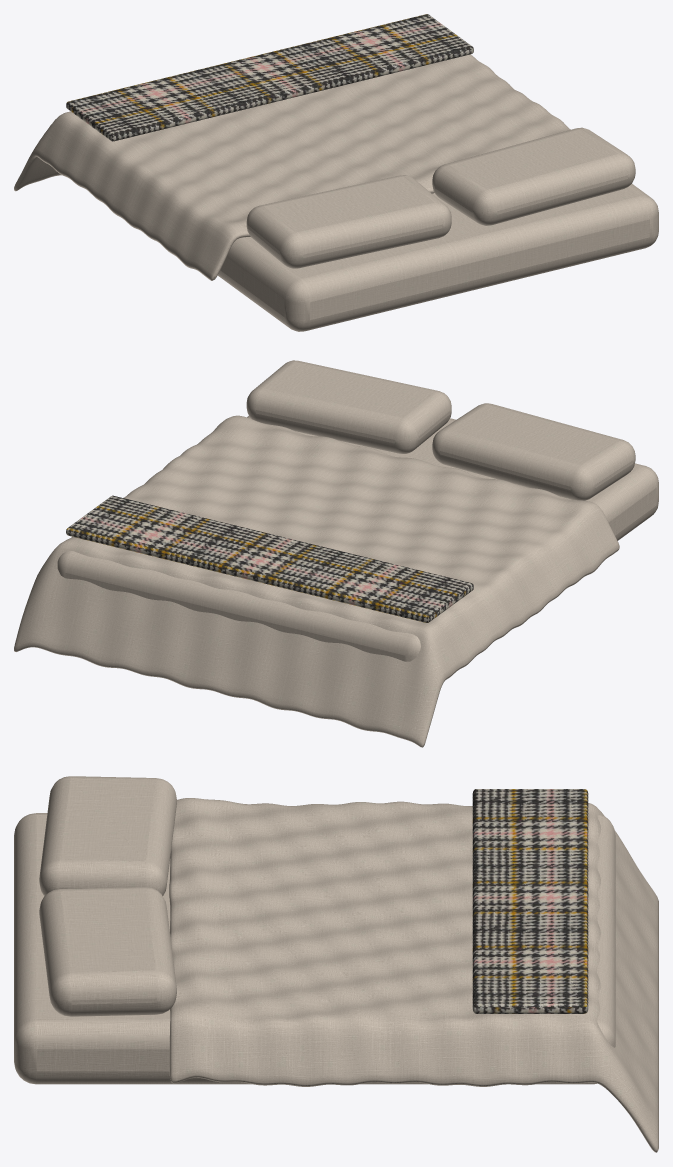
Rendered from bed_draped.glb.
3 views of the same model, one above another, from view 1: azimuth 30°, elevation 25°; view 2: azimuth 150°, elevation 25°; view 3: azimuth 270°, elevation 25° (orthographic). The views are drawn at different scales.
Visible parts, largest first — view 1: floor2_refined_west_bed_draped_duvet, floor2_refined_west_bed_mattress, floor2_refined_west_bed_foot_throw, floor2_refined_west_bed_pillow, floor2_refined_west_bed_pillow.001; view 2: floor2_refined_west_bed_draped_duvet, floor2_refined_west_bed_foot_throw, floor2_refined_west_bed_mattress, floor2_refined_west_bed_pillow.001, floor2_refined_west_bed_pillow; view 3: floor2_refined_west_bed_draped_duvet, floor2_refined_west_bed_foot_throw, floor2_refined_west_bed_mattress, floor2_refined_west_bed_pillow.001, floor2_refined_west_bed_pillow.
Part boxes in pixels (x1=…): floor2_refined_west_bed_draped_duvet: x1=14, y1=54, x2=570, y2=280; floor2_refined_west_bed_mattress: x1=217, y1=184, x2=658, y2=331; floor2_refined_west_bed_foot_throw: x1=66, y1=14, x2=473, y2=141; floor2_refined_west_bed_pillow: x1=246, y1=175, x2=451, y2=268; floor2_refined_west_bed_pillow.001: x1=432, y1=127, x2=635, y2=225; floor2_refined_west_bed_draped_duvet: x1=14, y1=415, x2=619, y2=747; floor2_refined_west_bed_foot_throw: x1=66, y1=495, x2=473, y2=622; floor2_refined_west_bed_mattress: x1=57, y1=416, x2=658, y2=661; floor2_refined_west_bed_pillow.001: x1=246, y1=360, x2=451, y2=453; floor2_refined_west_bed_pillow: x1=432, y1=403, x2=635, y2=500; floor2_refined_west_bed_draped_duvet: x1=169, y1=798, x2=658, y2=1152; floor2_refined_west_bed_foot_throw: x1=472, y1=789, x2=588, y2=1013; floor2_refined_west_bed_mattress: x1=14, y1=813, x2=615, y2=1084; floor2_refined_west_bed_pillow.001: x1=39, y1=887, x2=176, y2=1016; floor2_refined_west_bed_pillow: x1=39, y1=776, x2=176, y2=896.
Size of the model in its own units: 1.92 by 0.5633 by 2.12.
2 materials, 2 textured.
